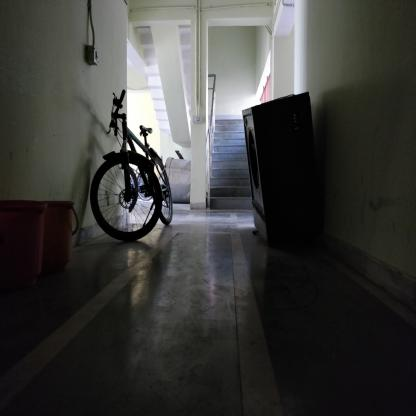stairs: (217, 119, 243, 214)
